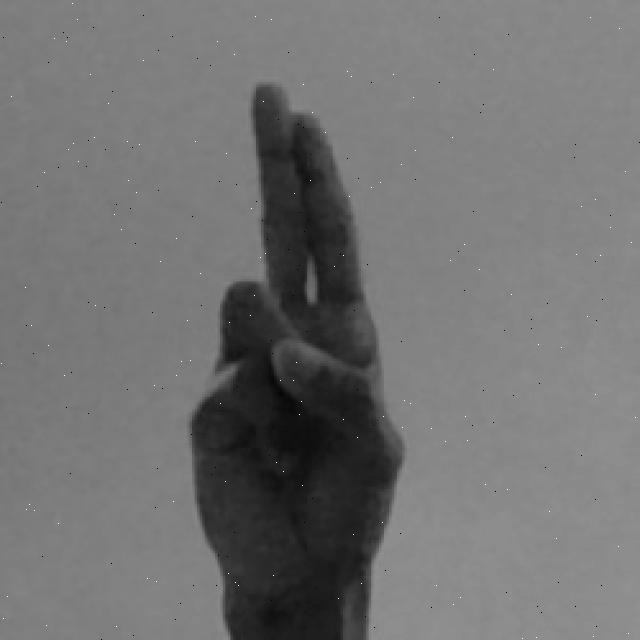U: (183, 74, 415, 640)
